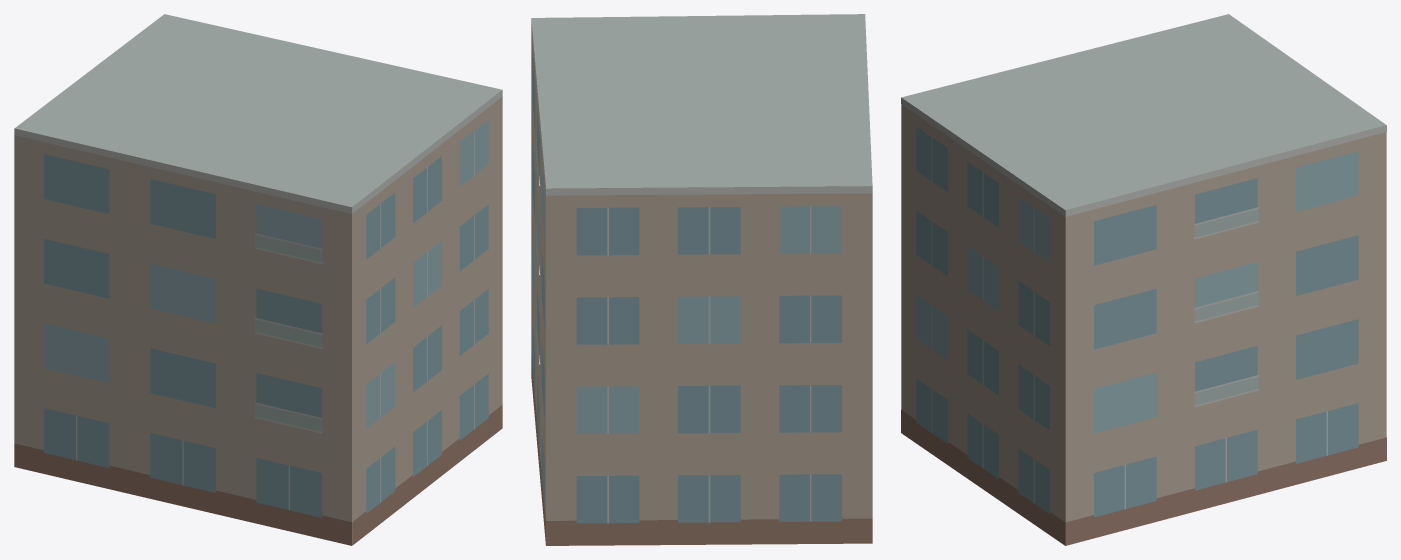
The model's file is survey-upis-32865187.glb.
The picture shows the model from 3 angles, left to right: view 1: azimuth 30°, elevation 25°; view 2: azimuth 150°, elevation 25°; view 3: azimuth 270°, elevation 25°; orthographic projection. The views are drawn at different scales.
Parts seen in each view (by area): view 1: survey-upis-32865187.tmp; view 2: survey-upis-32865187.tmp; view 3: survey-upis-32865187.tmp.
Boxes of the visible parts, x1,y1,x2,y2 form: survey-upis-32865187.tmp: (14,14,502,545); survey-upis-32865187.tmp: (531,14,872,545); survey-upis-32865187.tmp: (901,14,1386,545).
Bounding box in the file's own units: 15.31 × 12.2 × 16.01.
